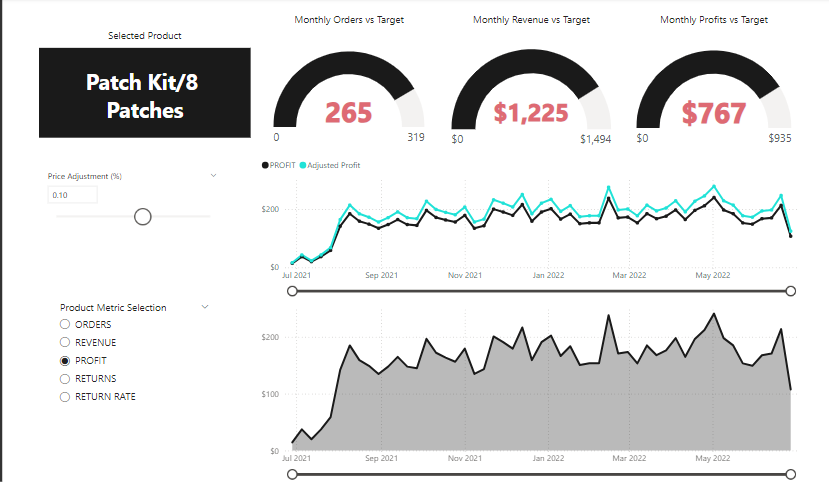

This screenshot's page, from the dashboard's own definition file:
{"tool":"powerbi","page":{"name":"Product Detail","canvas":[1280,720],"ordinal":2},"visuals":[{"type":"shape","box":[0,0,45,720],"z":0},{"type":"actionButton","box":[0,606.1,45.5,40.9],"z":0,"group":"g1"},{"type":"gauge","title":"Monthly Orders vs Target","fields":{"Y":["MeasureTable.ORDERS"],"MaxValue":["MeasureTable.Order Target"]},"box":[443.5,20.5,235.2,240.8],"z":1000},{"type":"actionButton","box":[0,659.1,45.5,40.9],"z":1000,"group":"g1"},{"type":"gauge","title":"Monthly Profits vs Target","fields":{"Y":["MeasureTable.PROFIT"],"MaxValue":["MeasureTable.Profit Target"]},"box":[984.3,20.5,240.8,240.8],"z":2000},{"type":"actionButton","box":[0,548.5,45.5,40.9],"z":2000,"group":"g1"},{"type":"gauge","title":"Monthly Revenue vs Target","fields":{"Y":["MeasureTable.REVENUE"],"MaxValue":["MeasureTable.Target Revenue"]},"box":[708.3,20.5,247.9,240.8],"z":3000},{"type":"actionButton","box":[0,490.9,45.5,40.9],"z":3000,"group":"g1"},{"type":"lineChart","title":"Profit Trending","fields":{"Category":["Calendar Lookup.Date Hierarchy.Start of Year","Calendar Lookup.Date Hierarchy.Start of Month","Calendar Lookup.Date Hierarchy.Start of Week","Calendar Lookup.Date Hierarchy.Date"],"Y":["MeasureTable.PROFIT","MeasureTable.Adjusted Profit"]},"box":[425.4,229.9,823.9,217.9],"z":4000},{"type":"areaChart","title":"Returns Trending","fields":{"Y":["MeasureTable.PROFIT"],"Category":["Calendar Lookup.Date Hierarchy.Start of Year","Calendar Lookup.Date Hierarchy.Start of Month","Calendar Lookup.Date Hierarchy.Start of Week","Calendar Lookup.Date Hierarchy.Date"]},"box":[425.4,447.8,823.9,271.6],"z":5000},{"type":"card","fields":{"Values":["Min(Product Lookup.ProductName)"]},"box":[99.5,73.2,314.6,134.6],"z":7000},{"type":"textbox","box":[99.5,39.5,314.6,33.7],"z":8000},{"type":"group","id":"g1","title":"Nav Buttons","box":[0,490.9,45.5,209.1],"z":9000},{"type":"slicer","fields":{"Values":["Price Adjustment (%).Price Adjustment (%)"]},"box":[100,251.5,277.3,109.1],"z":10000},{"type":"slicer","fields":{"Values":["Product Metric Selection.Product Metric Selection"]},"box":[117.9,444.8,247.8,182.1],"z":11000}]}

Visuals, with their boxes on the page's 1280x720 design canvas (x1, y1, x2, y2). These are canvas units, not pixel positions in the 829x482 screenshot, which may show the page scaled, cropped or inside an application window:
shape: rect(0, 0, 45, 720)
actionButton: rect(0, 606, 46, 647)
"Monthly Orders vs Target" gauge: rect(444, 20, 679, 261)
actionButton: rect(0, 659, 46, 700)
"Monthly Profits vs Target" gauge: rect(984, 20, 1225, 261)
actionButton: rect(0, 548, 46, 589)
"Monthly Revenue vs Target" gauge: rect(708, 20, 956, 261)
actionButton: rect(0, 491, 46, 532)
"Profit Trending" lineChart: rect(425, 230, 1249, 448)
"Returns Trending" areaChart: rect(425, 448, 1249, 719)
card - Min(Product Lookup.ProductName): rect(100, 73, 414, 208)
textbox: rect(100, 40, 414, 73)
"Nav Buttons" group: rect(0, 491, 46, 700)
slicer - Price Adjustment (%).Price Adjustment (%): rect(100, 252, 377, 361)
slicer - Product Metric Selection.Product Metric Selection: rect(118, 445, 366, 627)
